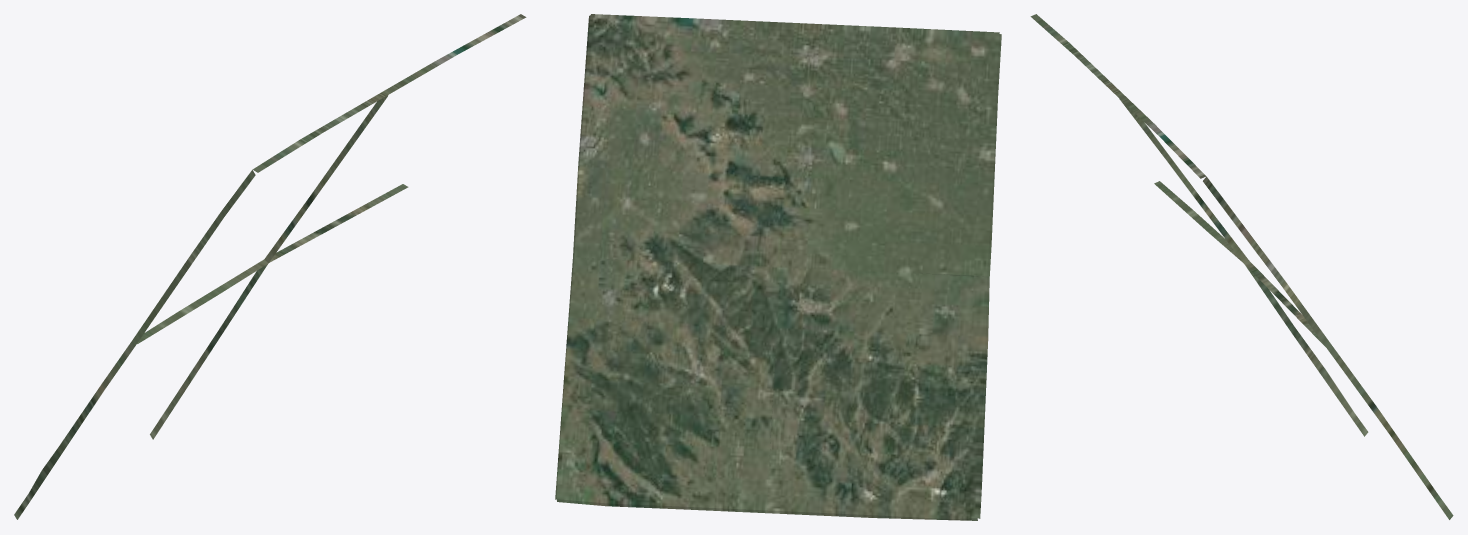
3 renders of one model, left to right at view 1: azimuth 30°, elevation 25°; view 2: azimuth 150°, elevation 25°; view 3: azimuth 270°, elevation 25°, orthographic. The views are drawn at different scales.
Size of the model in its own units: 313653 by 268626 by 264197.
1 material, 1 textured.
